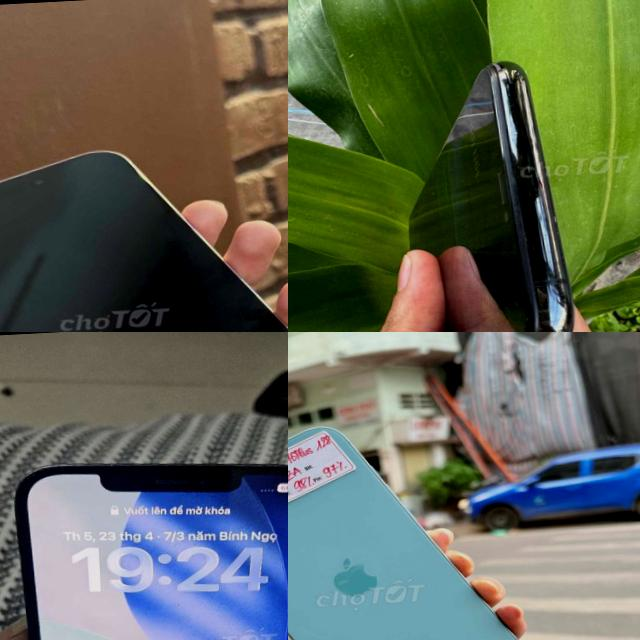gen_12_13: (3, 440, 288, 640)
gen_15: (0, 119, 288, 332)
gen_16: (288, 426, 518, 640)
gen_x_xs: (373, 53, 610, 332)
